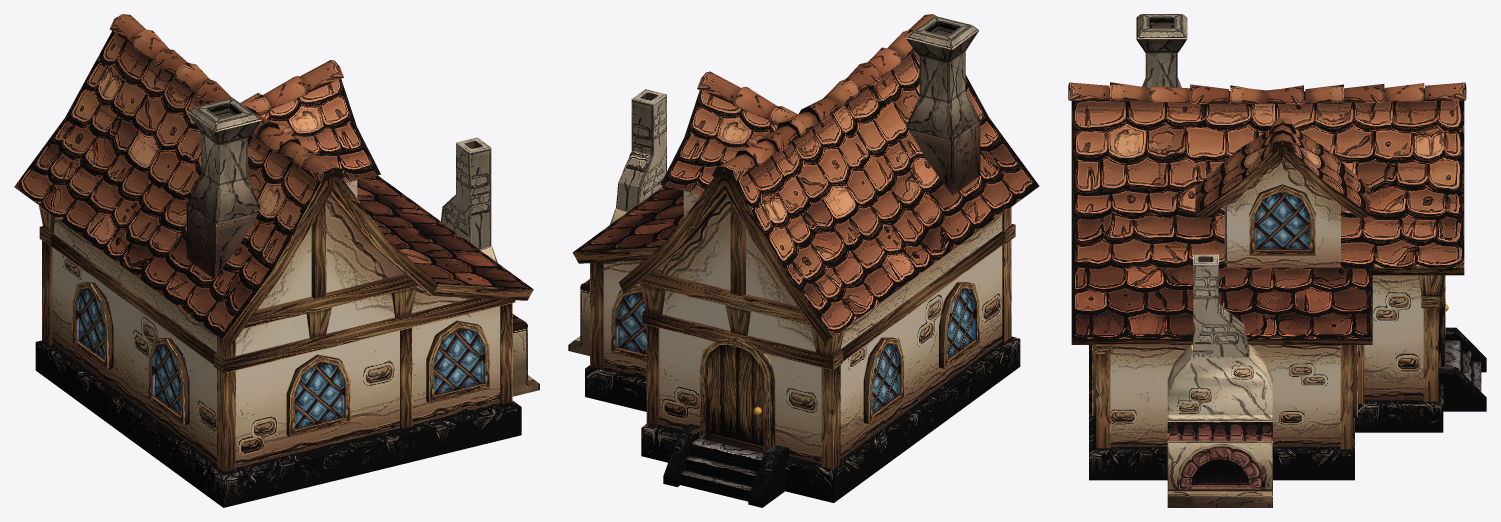
Rendered from Barrel.FBX.
3 views of the same model, side by side, from view 1: azimuth 30°, elevation 25°; view 2: azimuth 150°, elevation 25°; view 3: azimuth 270°, elevation 25° (orthographic). The views are drawn at different scales.
Visible parts, largest first — view 1: Baker_house; view 2: Baker_house; view 3: Baker_house.
Boxes of the visible parts, left/top/right/bottom form: Baker_house: left=14, top=14, right=539, bottom=507; Baker_house: left=568, top=14, right=1039, bottom=507; Baker_house: left=1068, top=14, right=1486, bottom=507.
Size of the model in its own units: 95.02 by 88.57 by 99.18.
